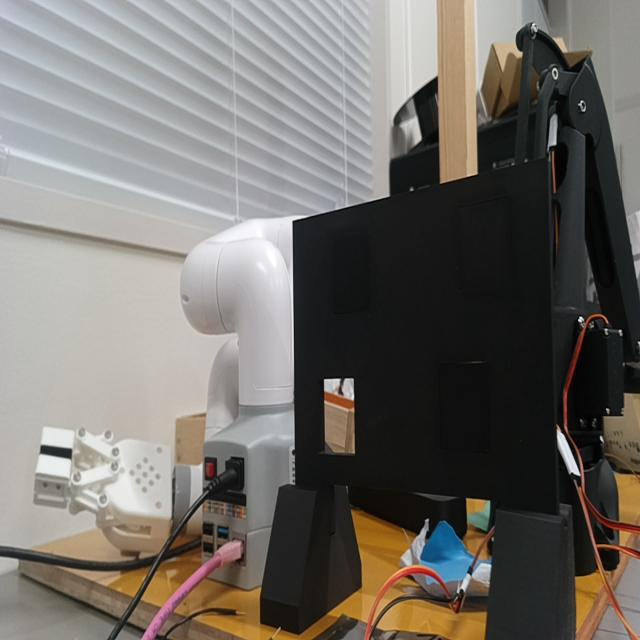Obstacle: (322, 377, 358, 455)
Wall: (291, 158, 558, 513)
